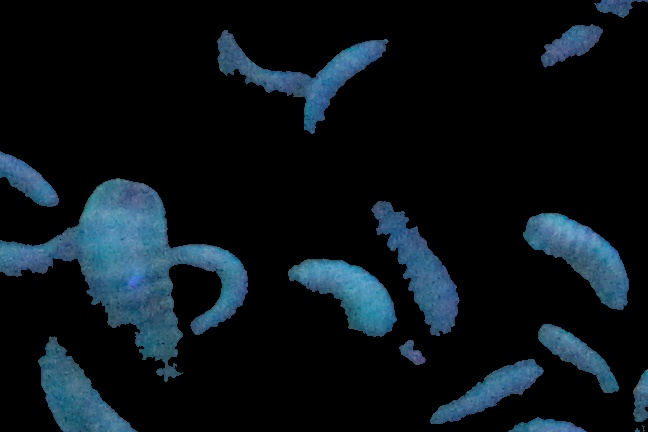larvae: (79, 174, 188, 379), (358, 189, 472, 352), (526, 207, 639, 320), (305, 30, 401, 155), (33, 339, 150, 432), (297, 262, 409, 351), (205, 18, 318, 103), (166, 241, 255, 326), (434, 359, 541, 424), (535, 1, 635, 68), (536, 323, 620, 395), (1, 226, 93, 286), (1, 145, 66, 214)
